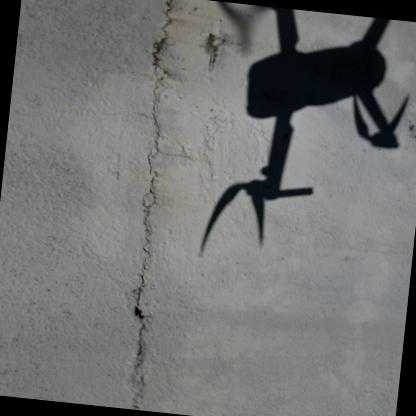crack: (127, 0, 177, 410)
